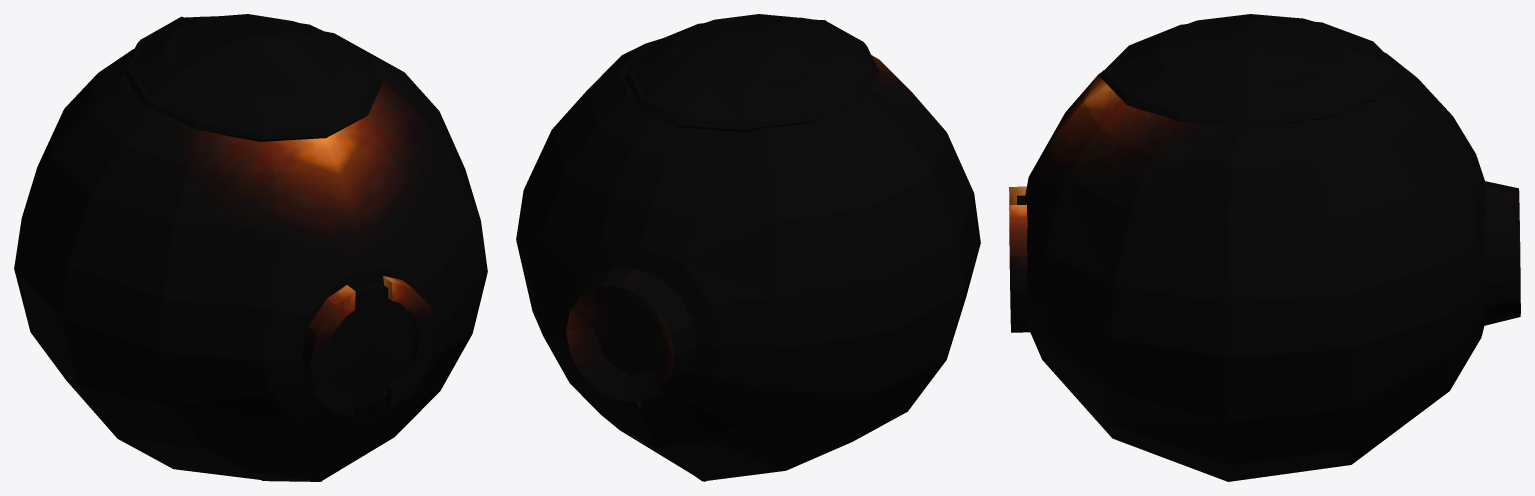
Rendered from 0320_hunxin01.glb.
The picture shows the model from 3 angles, left to right: view 1: azimuth 30°, elevation 25°; view 2: azimuth 150°, elevation 25°; view 3: azimuth 270°, elevation 25°; orthographic projection. The views are drawn at different scales.
Size of the model in its own units: 2.05 by 2.09 by 2.2.
1 material, 1 textured.
